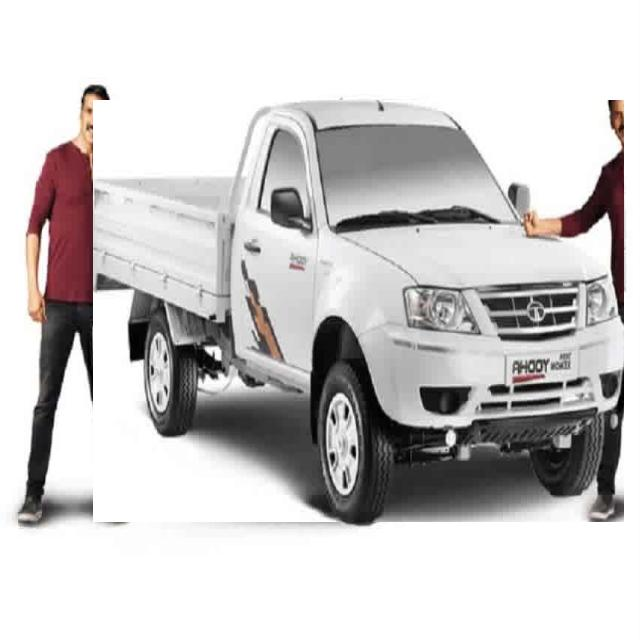truck: (94, 100, 624, 522)
